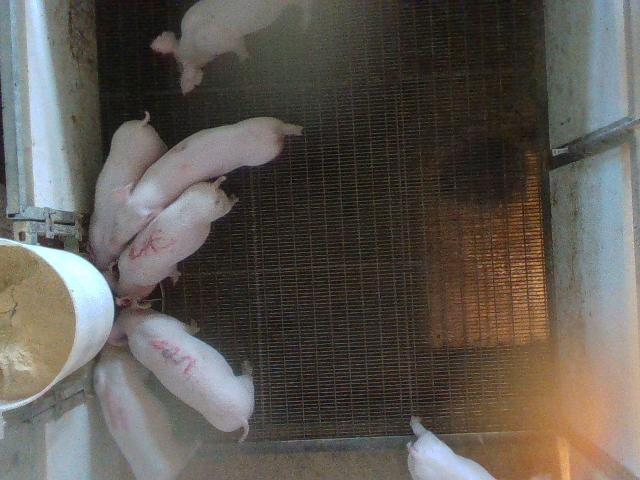pig-3: (110, 309, 254, 434)
pig-4: (94, 345, 198, 479)
pig-5: (110, 178, 236, 299)
